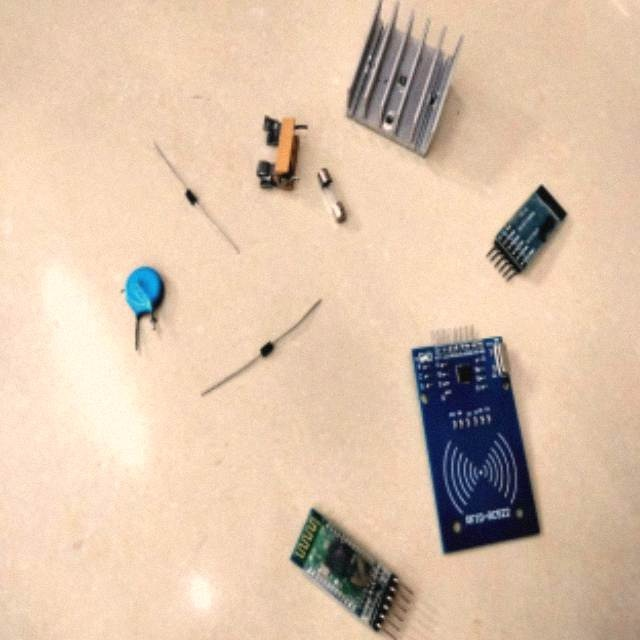capacitor: (126, 266, 164, 318)
